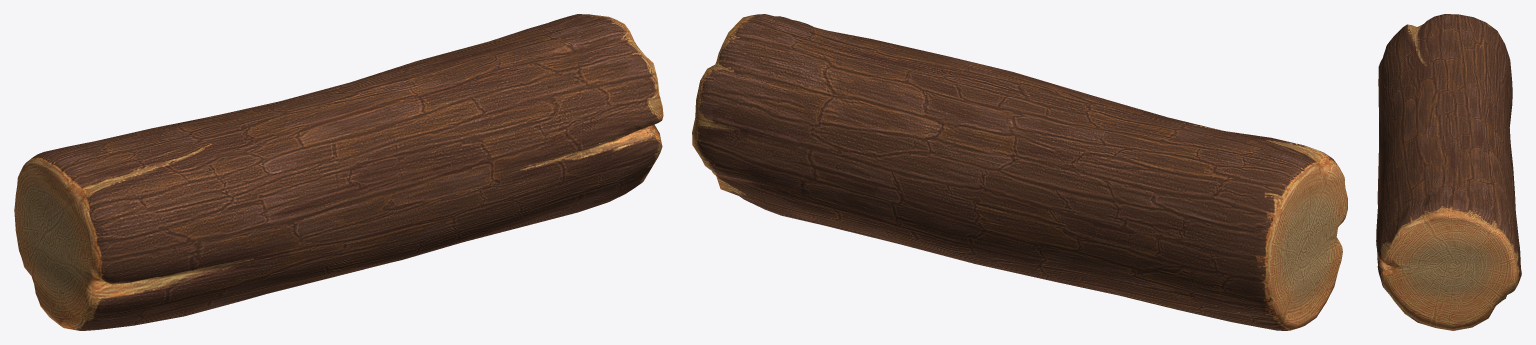
The model's file is log5.glb.
The picture shows the model from 3 angles, left to right: view 1: azimuth 30°, elevation 25°; view 2: azimuth 150°, elevation 25°; view 3: azimuth 270°, elevation 25°; orthographic projection. The views are drawn at different scales.
Visible parts, largest first — view 1: node_id760; view 2: node_id760; view 3: node_id760.
Part boxes in pixels (box(x1,y1,x2,y2)): node_id760: box(14, 14, 663, 330); node_id760: box(692, 14, 1347, 330); node_id760: box(1376, 14, 1521, 330).
Size of the model in its own units: 0.8988 by 0.272 by 0.2665.
1 material, 1 textured.
